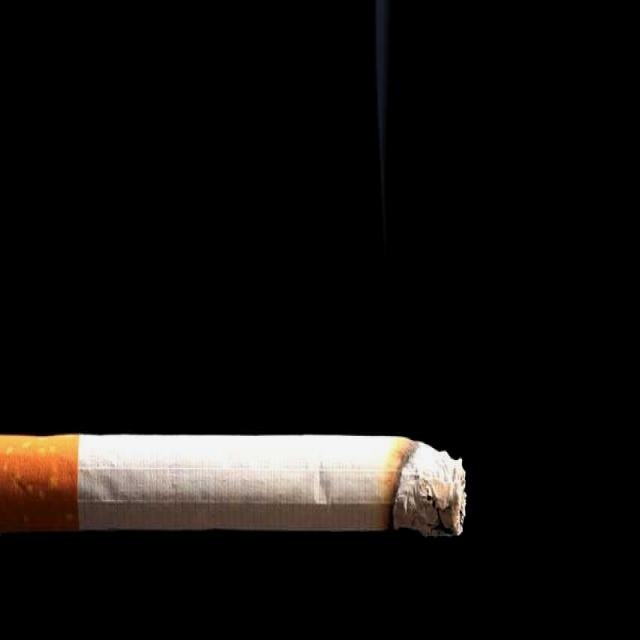Smooking: (0, 405, 477, 572)
